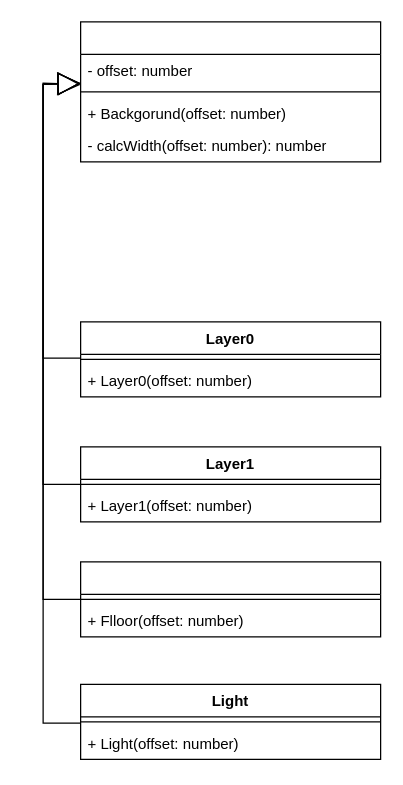
Image size: 403x785. Some labels were removed from this diagram. The box of each missing label's shape, as (x1, y1, x2, y2) in pixels:
Background: (79, 21, 381, 162)
Floor: (79, 561, 381, 637)
